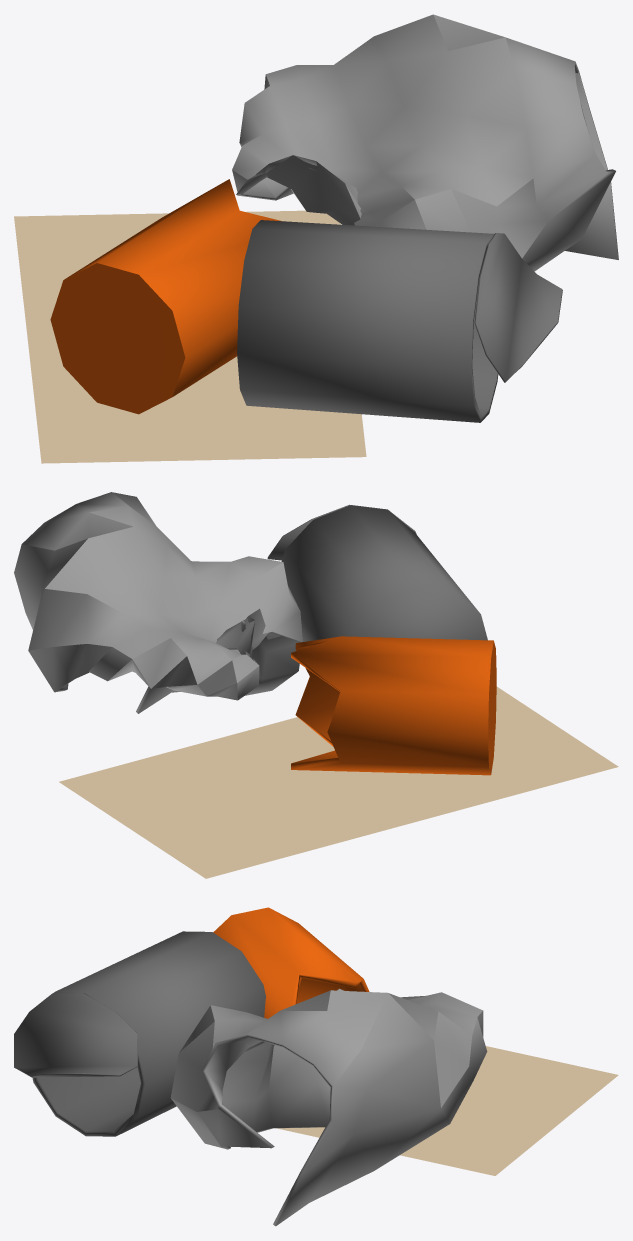
File: trashes3.glb
3 renders of one model, top to bottom at view 1: azimuth 30°, elevation 25°; view 2: azimuth 150°, elevation 25°; view 3: azimuth 270°, elevation 25°, orthographic. The views are drawn at different scales.
Parts seen in each view (by area): view 1: trashes3; view 2: trashes3; view 3: trashes3.
Part boxes in pixels (x1,y1,x2,y2): trashes3: (14,14,618,463); trashes3: (14,492,618,878); trashes3: (14,907,618,1226).
Bounding box in the file's own units: 0.6411 × 0.2263 × 0.6353.
